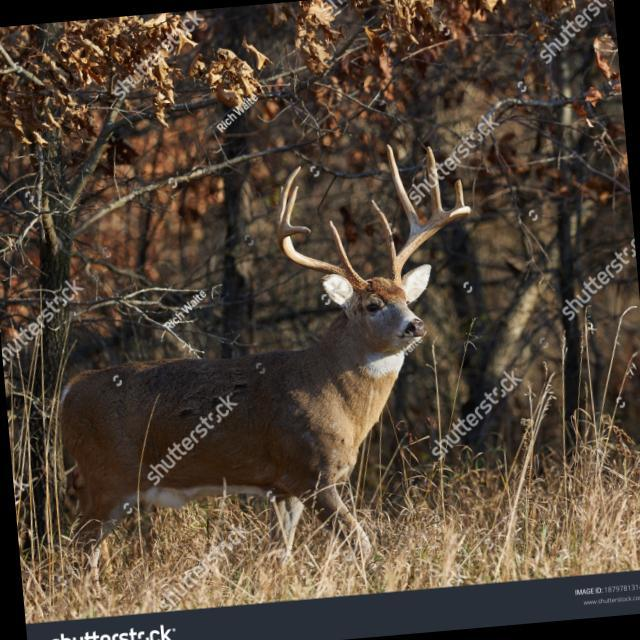L-F: (388, 205, 470, 287)
L-G1: (371, 198, 397, 263)
L-G2: (386, 144, 421, 233)
L-G3: (426, 145, 443, 215)
L-G4: (454, 179, 465, 207)
R-F: (276, 226, 366, 294)
R-G1: (329, 220, 351, 266)
R-G4: (280, 185, 298, 227)
